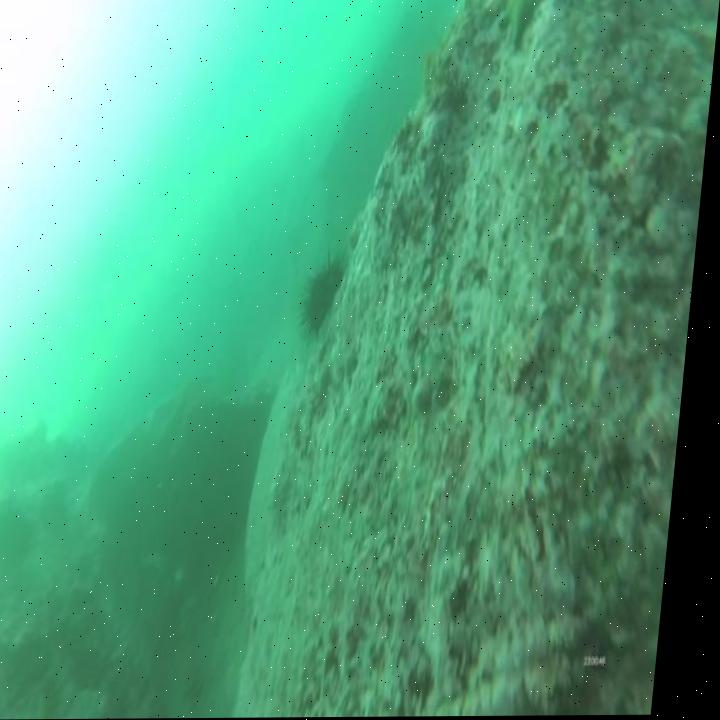echinus: (308, 265, 349, 327)
